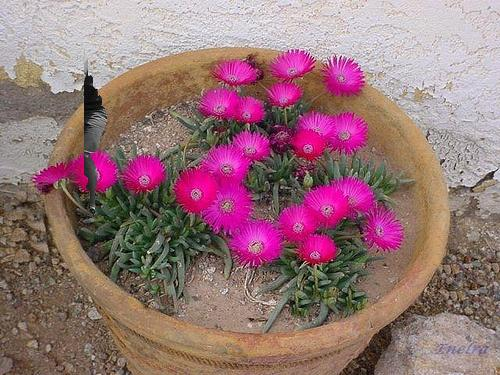tampered: (85, 46, 107, 218)
